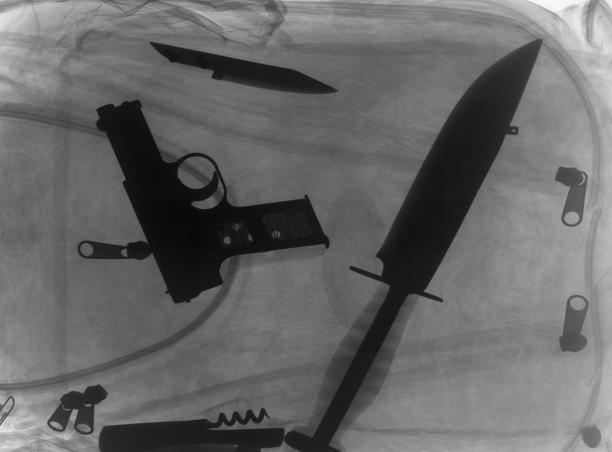Handgun: (92, 95, 331, 305)
Knife: (282, 35, 546, 452), (76, 26, 338, 96)
